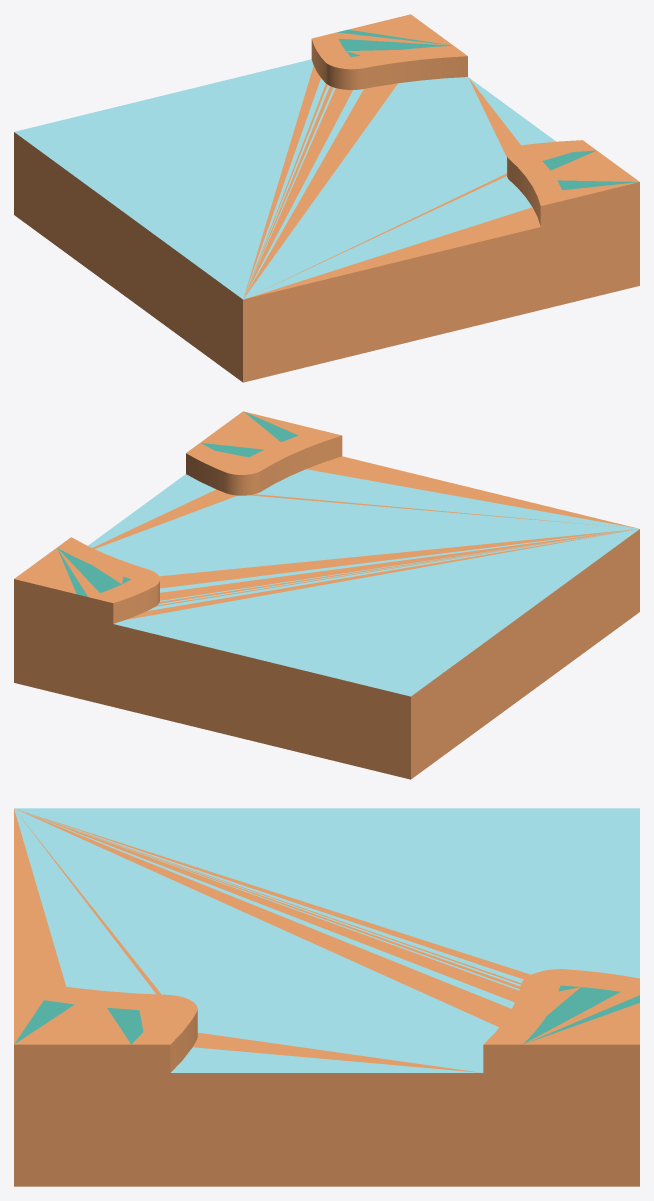
Rendered from ground_river_entrance.obj.
3 views of the same model, one above another, from view 1: azimuth 30°, elevation 25°; view 2: azimuth 150°, elevation 25°; view 3: azimuth 270°, elevation 25° (orthographic). The views are drawn at different scales.
Parts seen in each view (by area): view 1: ground_dirtRiverEntrance; view 2: ground_dirtRiverEntrance; view 3: ground_dirtRiverEntrance.
Part boxes in pixels (left/top/right/bottom): ground_dirtRiverEntrance: left=14, top=14, right=639, bottom=382; ground_dirtRiverEntrance: left=14, top=411, right=639, bottom=779; ground_dirtRiverEntrance: left=14, top=808, right=639, bottom=1186.
Bounding box in the file's own units: 10 × 2.5 × 10.
